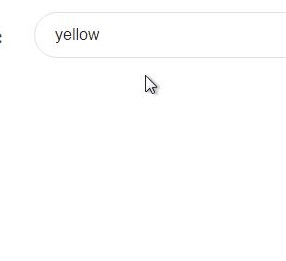cursor: (144, 74, 157, 94)
